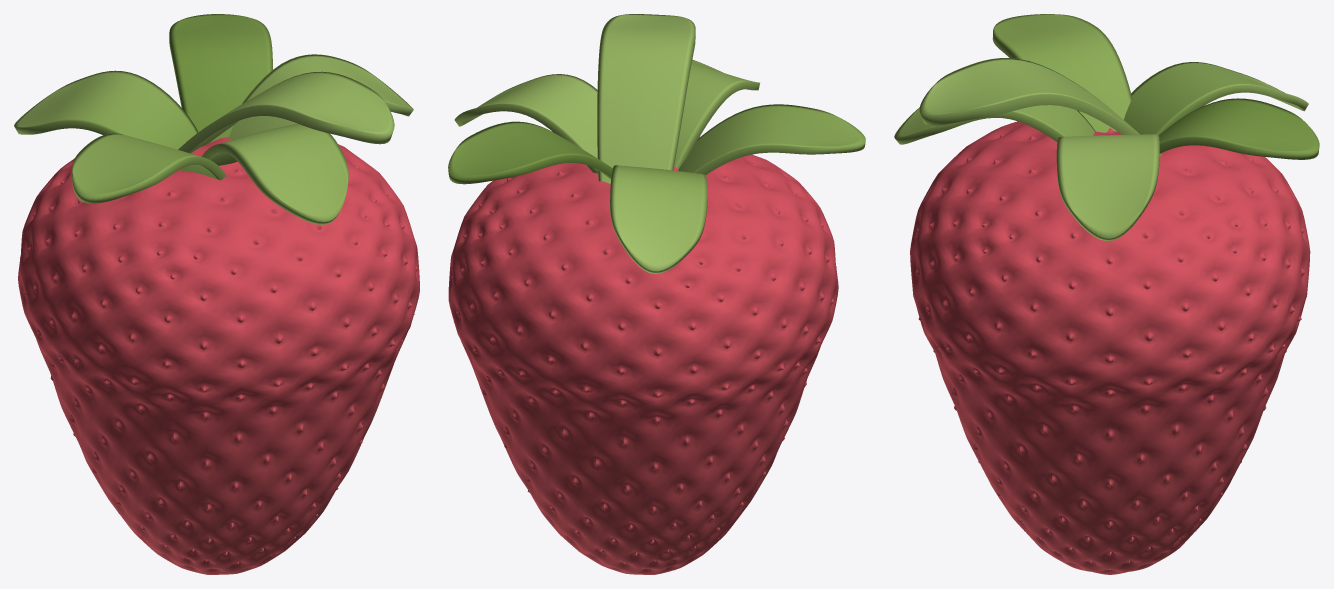
The model's file is strawberry.fbx.
The picture shows the model from 3 angles, left to right: view 1: azimuth 30°, elevation 25°; view 2: azimuth 150°, elevation 25°; view 3: azimuth 270°, elevation 25°; orthographic projection. The views are drawn at different scales.
Parts seen in each view (by area): view 1: Cube, Plane.001, Plane.004, Plane.002, Plane.005, Plane.003, Plane; view 2: Cube, Plane.005, Plane.002, Plane.003, Plane.001, Plane, Plane.004; view 3: Cube, Plane, Plane.005, Plane.003, Plane.001, Plane.002, Plane.004.
Part boxes in pixels (left/top/right/bottom): Cube: left=18, top=137, right=419, bottom=574; Plane.001: left=169, top=14, right=272, bottom=142; Plane.004: left=201, top=123, right=348, bottom=224; Plane.002: left=14, top=70, right=198, bottom=149; Plane.005: left=178, top=71, right=394, bottom=153; Plane.003: left=72, top=133, right=226, bottom=203; Plane: left=229, top=54, right=413, bottom=139; Cube: left=448, top=136, right=838, bottom=574; Plane.005: left=597, top=14, right=695, bottom=183; Plane.002: left=610, top=165, right=707, bottom=273; Plane.003: left=678, top=104, right=865, bottom=175; Plane.001: left=448, top=121, right=612, bottom=184; Plane: left=454, top=74, right=598, bottom=173; Plane.004: left=674, top=59, right=759, bottom=168; Cube: left=910, top=121, right=1310, bottom=574; Plane: left=1056, top=134, right=1159, bottom=240; Plane.005: left=919, top=58, right=1162, bottom=156; Plane.003: left=992, top=14, right=1132, bottom=132; Plane.001: left=1159, top=98, right=1319, bottom=159; Plane.002: left=1124, top=62, right=1308, bottom=135; Plane.004: left=894, top=105, right=1095, bottom=144.
Bounding box in the file's own units: 173 × 221 × 167.
1 material, 1 textured.
